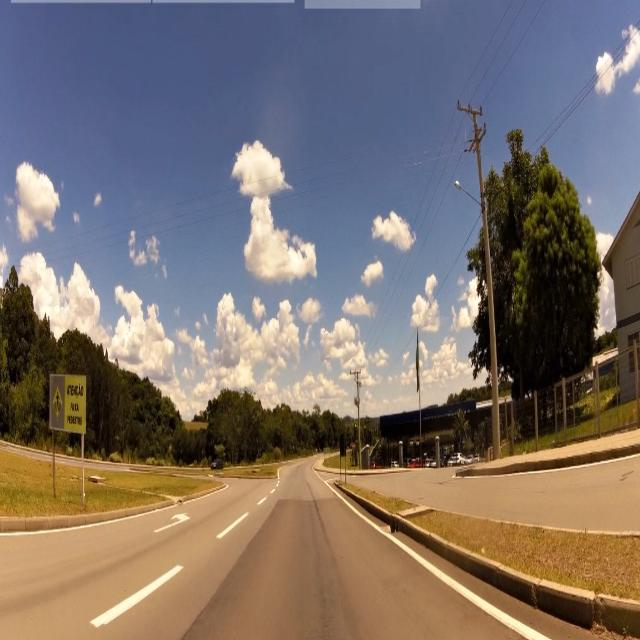A-32b: (50, 380, 65, 420)
